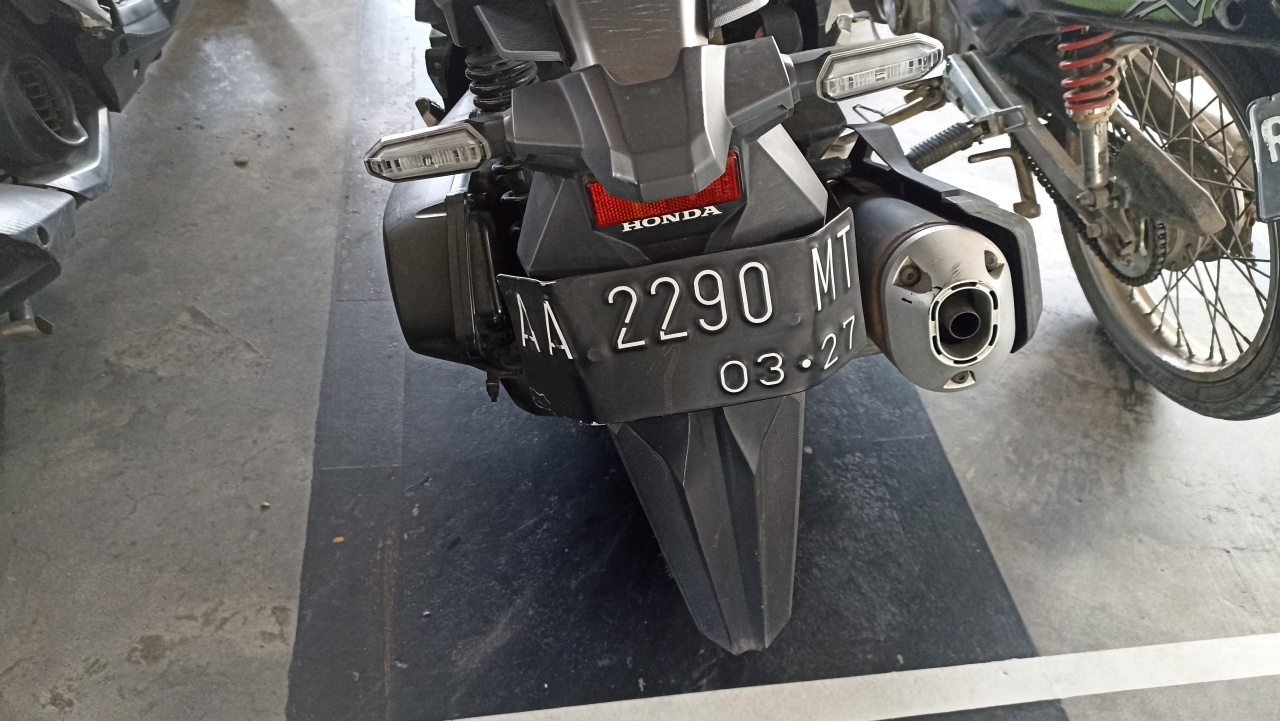plate: (496, 207, 867, 427)
